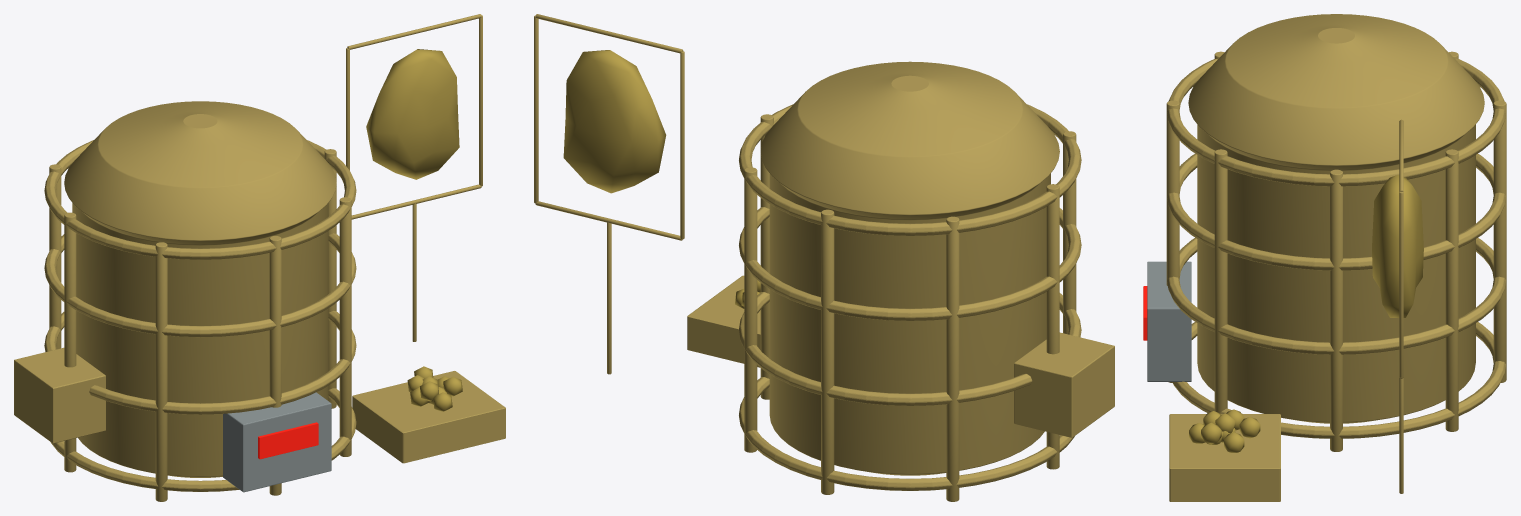
3 views of the same model, side by side, from view 1: azimuth 30°, elevation 25°; view 2: azimuth 150°, elevation 25°; view 3: azimuth 270°, elevation 25° (orthographic). The views are drawn at different scales.
Parts seen in each view (by area): view 1: TI082 / rounded gold ore canister, TI082 / separate mineral specimen, TI082 / small sample tray, TI082 / front terminal, TI082 / side cargo block, TI082 / canister cage hoop.003, TI082 / canister cage hoop.002, TI082 / canister cage hoop.001, TI082 / canister protective upright.005, TI082 / canister protective upright.007, TI082 / canister cage hoop, TI082 / canister protective upright.006 (+8 smaller); view 2: TI082 / rounded gold ore canister, TI082 / separate mineral specimen, TI082 / side cargo block, TI082 / canister cage hoop.003, TI082 / canister cage hoop.002, TI082 / canister cage hoop, TI082 / canister cage hoop.001, TI082 / canister protective upright.003, TI082 / canister protective upright.002, TI082 / small sample tray, TI082 / canister protective upright.001, TI082 / canister protective upright.004 (+7 smaller); view 3: TI082 / rounded gold ore canister, TI082 / small sample tray, TI082 / canister cage hoop.003, TI082 / separate mineral specimen, TI082 / canister cage hoop.001, TI082 / canister cage hoop.002, TI082 / front terminal, TI082 / canister cage hoop, TI082 / canister protective upright.001, TI082 / canister protective upright, TI082 / canister protective upright.007, TI082 / canister protective upright.002 (+3 smaller).
Boxes of the visible parts, left/top/right/bottom form: TI082 / rounded gold ore canister: left=64, top=101, right=336, bottom=477; TI082 / separate mineral specimen: left=366, top=49, right=459, bottom=179; TI082 / small sample tray: left=352, top=371, right=505, bottom=463; TI082 / front terminal: left=223, top=392, right=331, bottom=492; TI082 / side cargo block: left=14, top=347, right=105, bottom=443; TI082 / canister cage hoop.003: left=44, top=140, right=356, bottom=259; TI082 / canister cage hoop.002: left=44, top=233, right=356, bottom=337; TI082 / canister cage hoop.001: left=44, top=311, right=356, bottom=414; TI082 / canister protective upright.005: left=155, top=242, right=167, bottom=501; TI082 / canister protective upright.007: left=339, top=197, right=351, bottom=456; TI082 / canister cage hoop: left=50, top=388, right=356, bottom=491; TI082 / canister protective upright.006: left=269, top=236, right=281, bottom=495; TI082 / rounded gold ore canister: left=760, top=61, right=1059, bottom=475; TI082 / separate mineral specimen: left=563, top=50, right=666, bottom=193; TI082 / side cargo block: left=1014, top=332, right=1114, bottom=437; TI082 / canister cage hoop.003: left=739, top=104, right=1081, bottom=235; TI082 / canister cage hoop.002: left=739, top=207, right=1081, bottom=320; TI082 / canister cage hoop: left=739, top=377, right=1074, bottom=490; TI082 / canister cage hoop.001: left=739, top=292, right=1081, bottom=405; TI082 / canister protective upright.003: left=946, top=216, right=959, bottom=501; TI082 / canister protective upright.002: left=821, top=209, right=834, bottom=494; TI082 / small sample tray: left=687, top=275, right=760, bottom=367; TI082 / canister protective upright.001: left=744, top=167, right=757, bottom=452; TI082 / canister protective upright.004: left=1046, top=184, right=1059, bottom=469; TI082 / rounded gold ore canister: left=1188, top=14, right=1484, bottom=423; TI082 / small sample tray: left=1169, top=414, right=1280, bottom=501; TI082 / canister cage hoop.003: left=1167, top=59, right=1505, bottom=186; TI082 / separate mineral specimen: left=1372, top=175, right=1423, bottom=317; TI082 / canister cage hoop.001: left=1167, top=237, right=1505, bottom=354; TI082 / canister cage hoop.002: left=1167, top=153, right=1505, bottom=270; TI082 / front terminal: left=1147, top=261, right=1191, bottom=381; TI082 / canister cage hoop: left=1172, top=322, right=1505, bottom=438; TI082 / canister protective upright.001: left=1445, top=149, right=1458, bottom=431; TI082 / canister protective upright: left=1330, top=169, right=1342, bottom=451; TI082 / canister protective upright.007: left=1214, top=149, right=1227, bottom=412; TI082 / canister protective upright.002: left=1493, top=100, right=1506, bottom=382.
Bounding box in the file's own units: 3.24 × 2.11 × 1.95.
